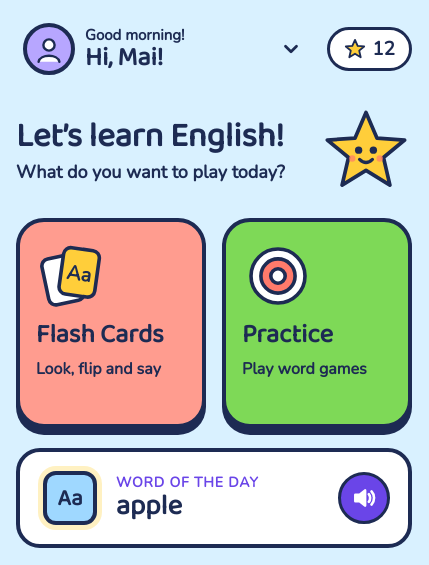
Test case: Home › renames the child from the user menu
expect the text "Hi, Mai!" is shown: met, box [85,37,163,79]
Click the button "Good morning! Hi, Mai!" at (166, 49), box [16,16,315,82]
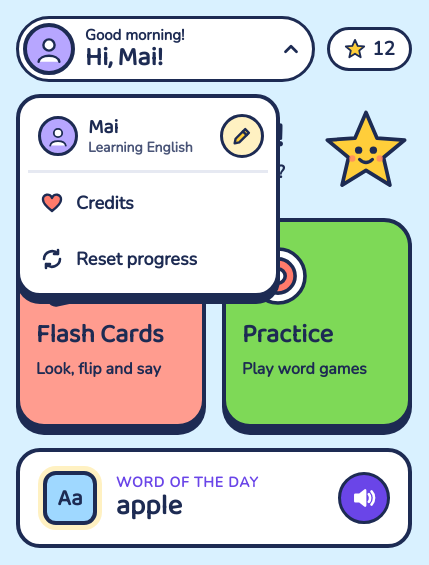
Click the button named "Change name" at (242, 136), box [220,114,264,158]
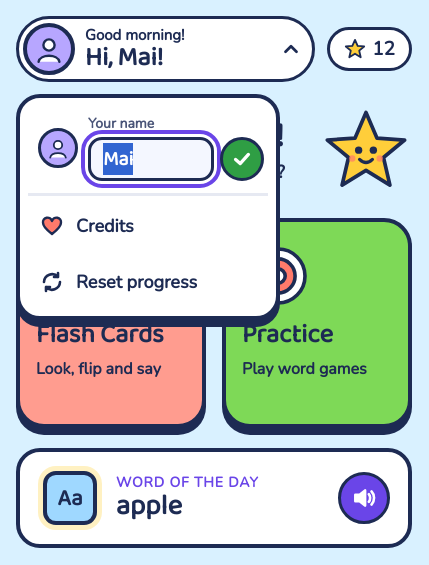
Replace the text in the field labelled "Your name" with "  Lan " at (151, 159), box [88,137,214,181]
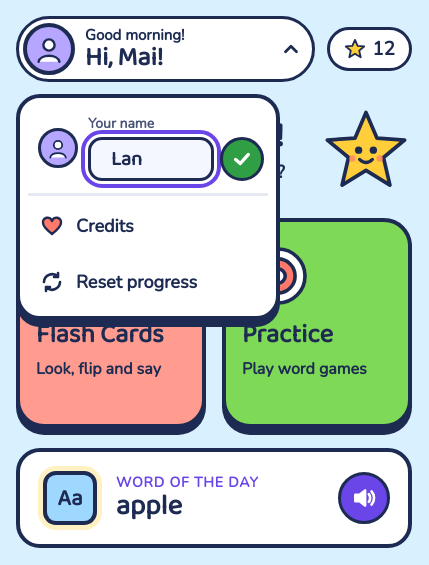
Click the button named "Save name" at (242, 159), box [220,137,264,181]
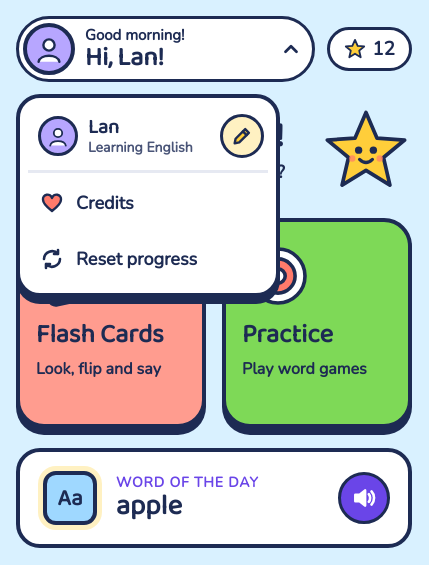
expect the text "Hi, Lan!" is shown: met, box [85,37,164,79]
